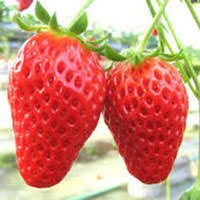ripe: (8, 27, 112, 190), (101, 49, 194, 189)
